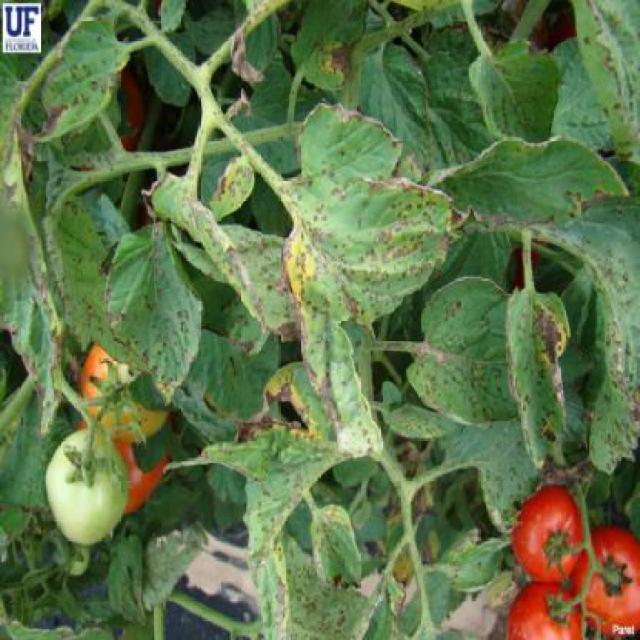Tomato late blight leaf: (253, 96, 450, 447), (395, 270, 540, 432), (229, 407, 329, 636), (106, 204, 209, 416), (428, 136, 632, 238), (492, 276, 574, 478), (303, 504, 362, 598)
